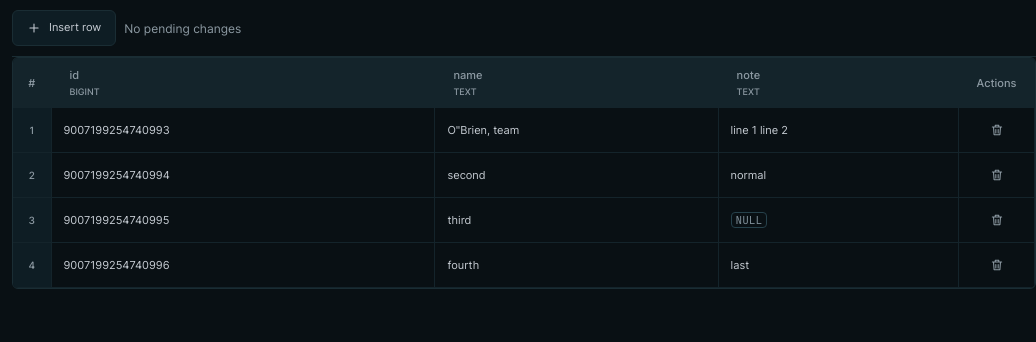
Test case: falls back to the WebView copy command and restores focus when clipboard API is blocked
The image size is (1036, 342).
Click the button "1".
click(32, 130)  # box [13,115,50,145]
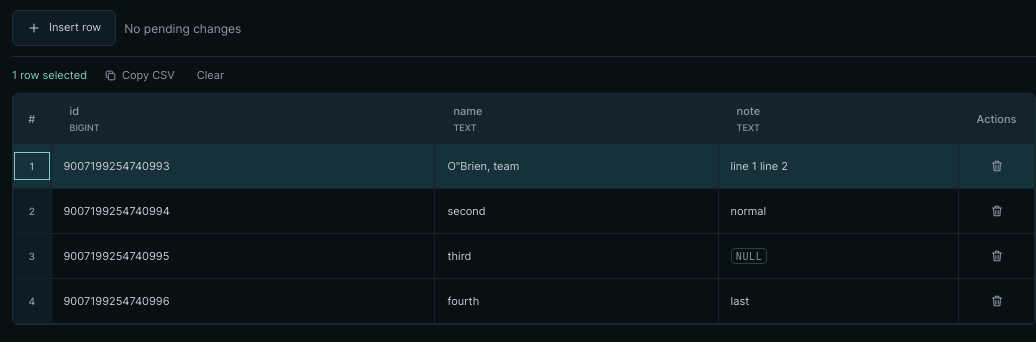
Click the button "Copy CSV".
click(139, 75)  # box [99,65,180,85]
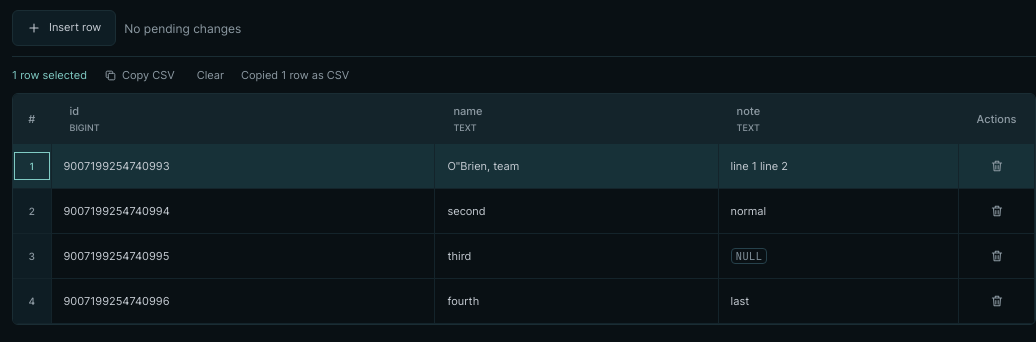
Expected: the message "Copied 1 row as CSV" is shown, [241,68,349,82]
